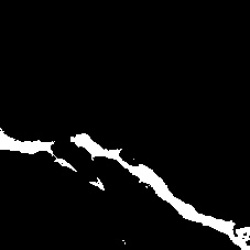crack: (70, 133, 249, 249), (1, 129, 77, 171), (91, 176, 104, 191), (122, 239, 126, 244)
